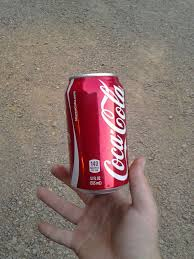can: (64, 68, 134, 198)
